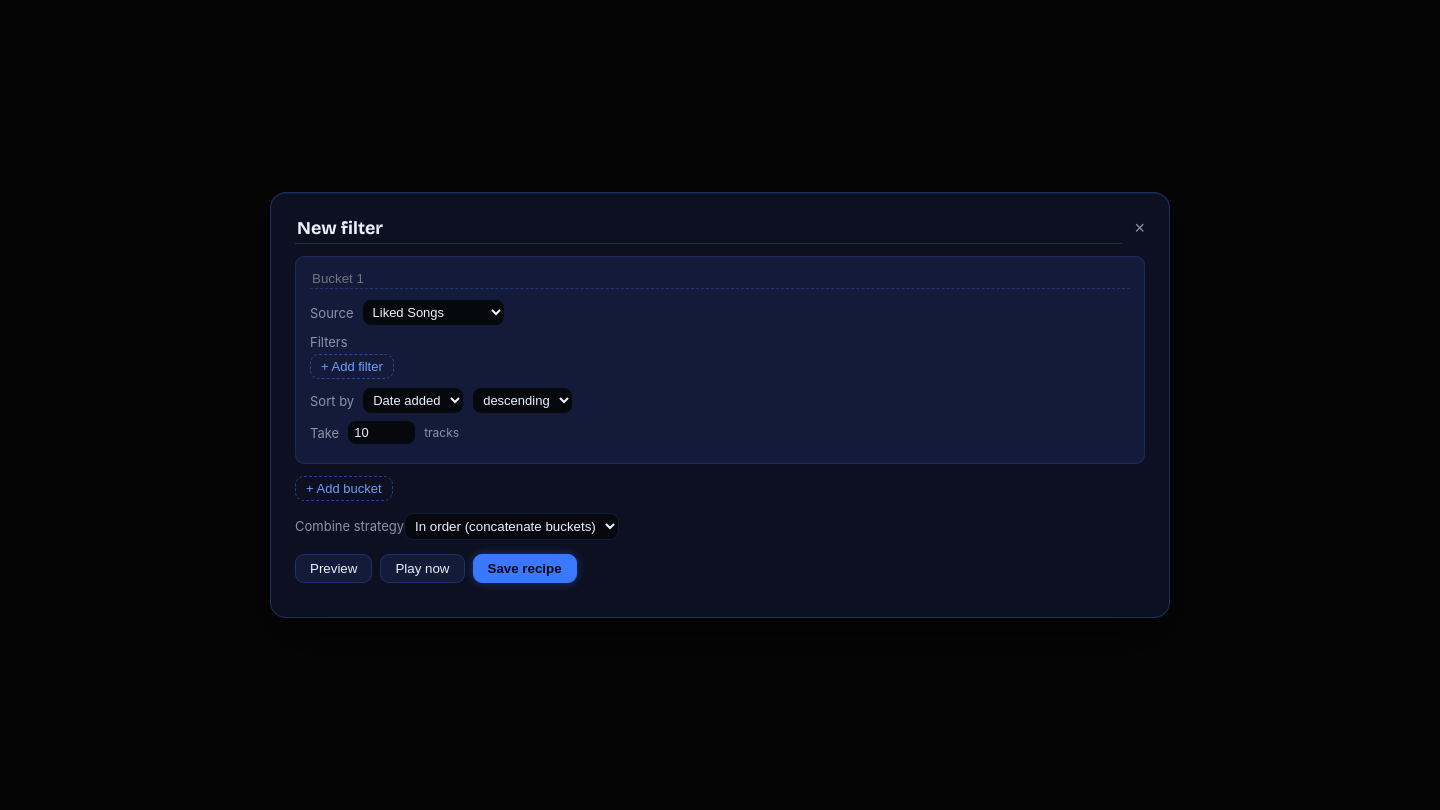
RecipeBuilder › renders resolver warnings in the preview
Expected: the dialog is shown, [270,192,1170,618]
Click the button "Preview" at (334, 568), box [295,554,372,583]
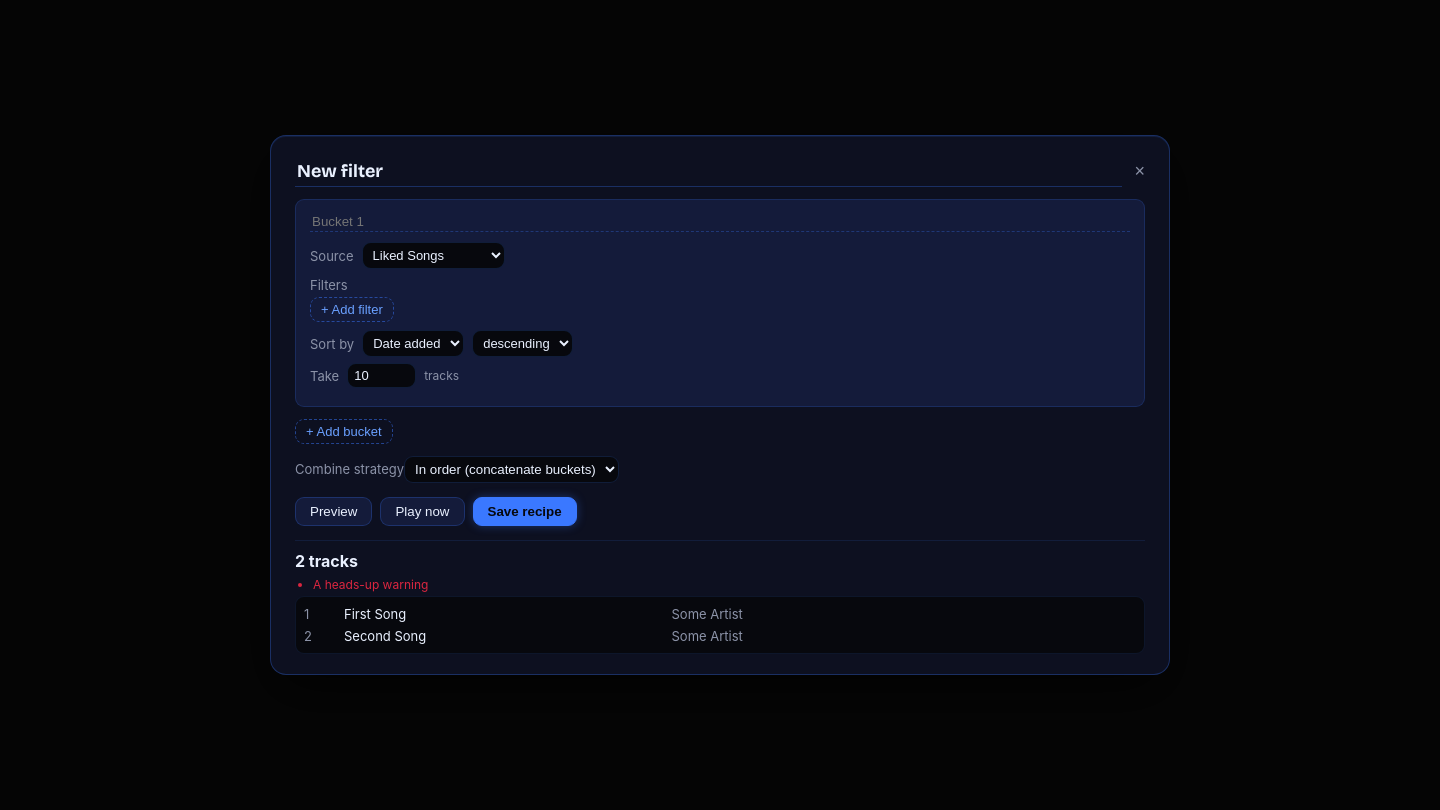
Result: the list item "A heads-up warning" is shown at [313,577,428,592]
